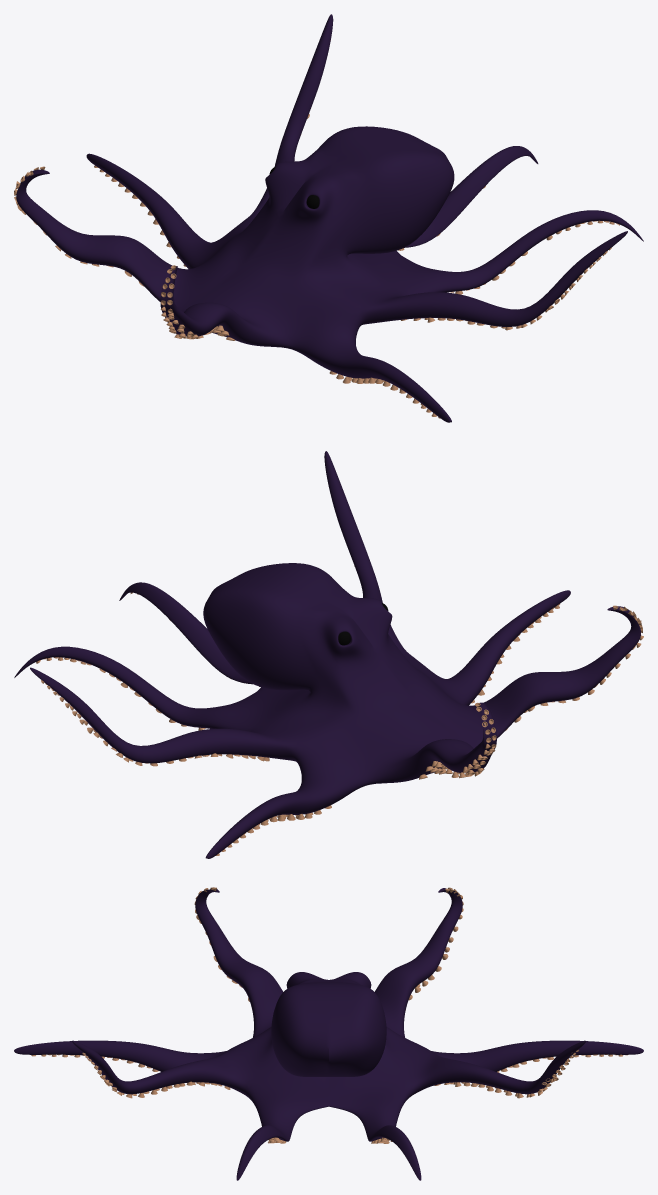
The model's file is pulpo.glb.
The picture shows the model from 3 angles, top to bottom: view 1: azimuth 30°, elevation 25°; view 2: azimuth 150°, elevation 25°; view 3: azimuth 270°, elevation 25°; orthographic projection. The views are drawn at different scales.
Parts seen in each view (by area): view 1: Node1; view 2: Node1; view 3: Node1.
Part boxes in pixels (x1,y1,x2,y2): Node1: [16, 14, 643, 422]; Node1: [14, 451, 640, 858]; Node1: [14, 888, 643, 1180].
Bounding box in the file's own units: 14.33 × 4.17 × 17.93.
